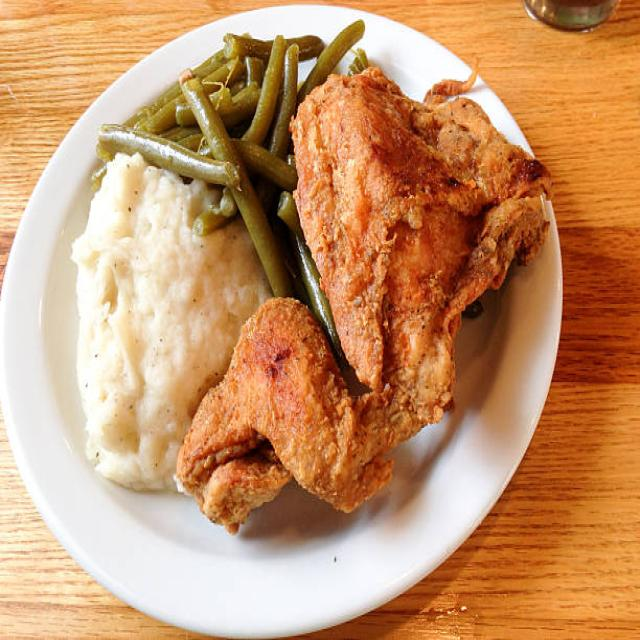Frango: (177, 64, 559, 540)
